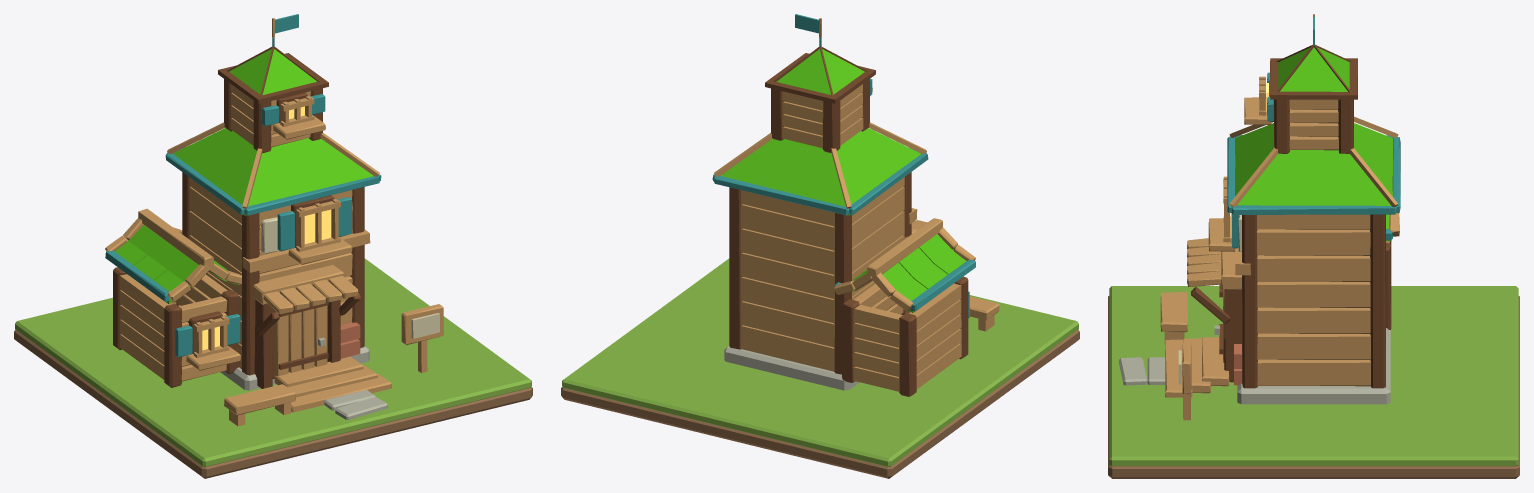
Rendered from town_hall_l04_active_LOD1.glb.
3 views of the same model, side by side, from view 1: azimuth 30°, elevation 25°; view 2: azimuth 150°, elevation 25°; view 3: azimuth 270°, elevation 25° (orthographic). The views are drawn at different scales.
Visible parts, largest first — view 1: town_hall_l04_active_foundation.001, town_hall_l04_active_grass_tile.001, town_hall_l04_active_earth_tile.001, town_hall_l04_active_path_stone.005; view 2: town_hall_l04_active_foundation.001, town_hall_l04_active_grass_tile.001, town_hall_l04_active_earth_tile.001; view 3: town_hall_l04_active_foundation.001, town_hall_l04_active_grass_tile.001, town_hall_l04_active_earth_tile.001, town_hall_l04_active_path_stone.005, town_hall_l04_active_path_stone.004.
Boxes of the visible parts, <box> form: town_hall_l04_active_foundation.001: <box>105,14,443,426</box>; town_hall_l04_active_grass_tile.001: <box>15,258,531,466</box>; town_hall_l04_active_earth_tile.001: <box>14,329,532,478</box>; town_hall_l04_active_path_stone.005: <box>335,396,387,419</box>; town_hall_l04_active_foundation.001: <box>712,14,999,396</box>; town_hall_l04_active_grass_tile.001: <box>562,258,1078,466</box>; town_hall_l04_active_earth_tile.001: <box>561,329,1079,478</box>; town_hall_l04_active_foundation.001: <box>1160,14,1400,420</box>; town_hall_l04_active_grass_tile.001: <box>1109,286,1518,466</box>; town_hall_l04_active_earth_tile.001: <box>1108,296,1519,478</box>; town_hall_l04_active_path_stone.005: <box>1119,357,1147,385</box>; town_hall_l04_active_path_stone.004: <box>1147,357,1165,384</box>.
Bounding box in the file's own units: 3.6 × 3.66 × 3.6.
